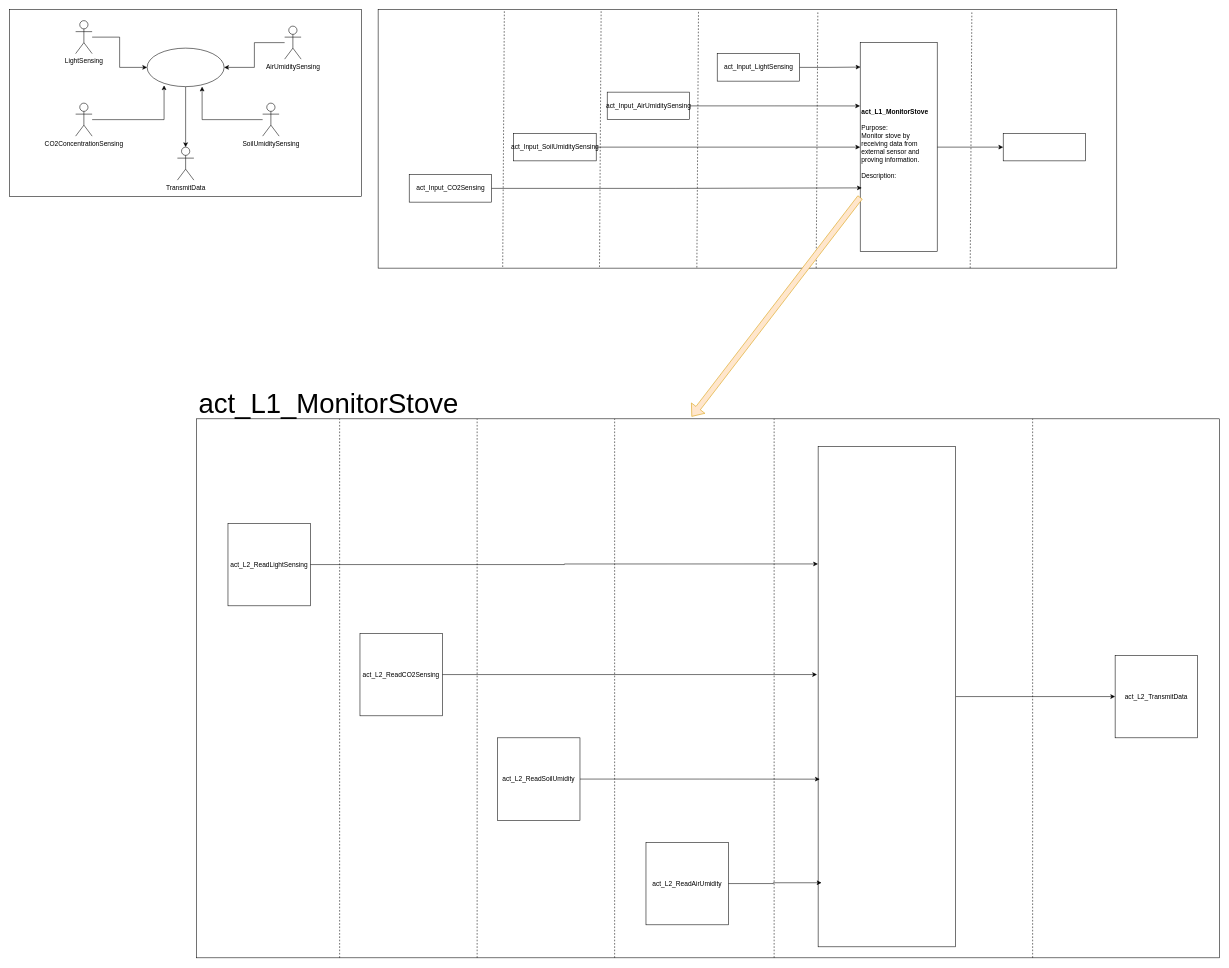
The diagram is 1229 pixels wide and 968 high, and some of its shapes have lost their labels. Each missing label, with the centre of its shape:
act_L2_SoilMonitoringProcessing: [887,696]
act_Output_TransmitData: [1044,147]
uc_MonitorStove: [185,67]
